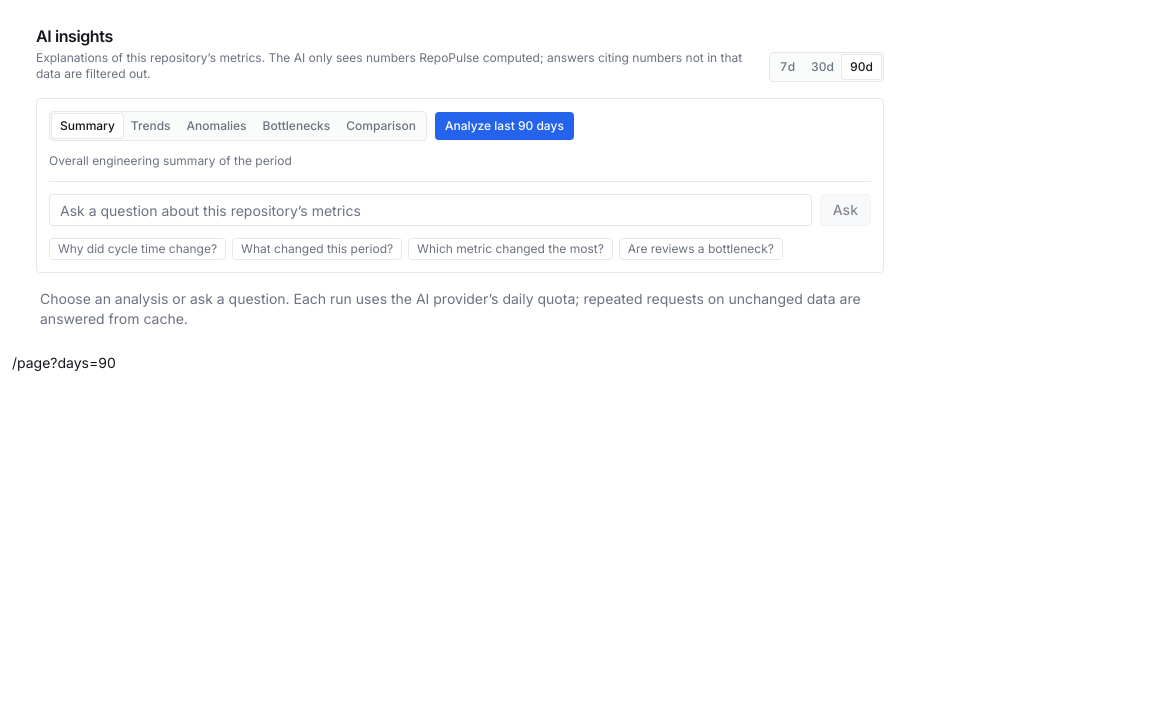
AIInsightsPage › runs the selected mode for the selected period and shows the structured answer
The width and height of the screenshot is (1164, 720).
Click the radio button labelled "Bottlenecks" at (296, 126), box [255,114,338,138]
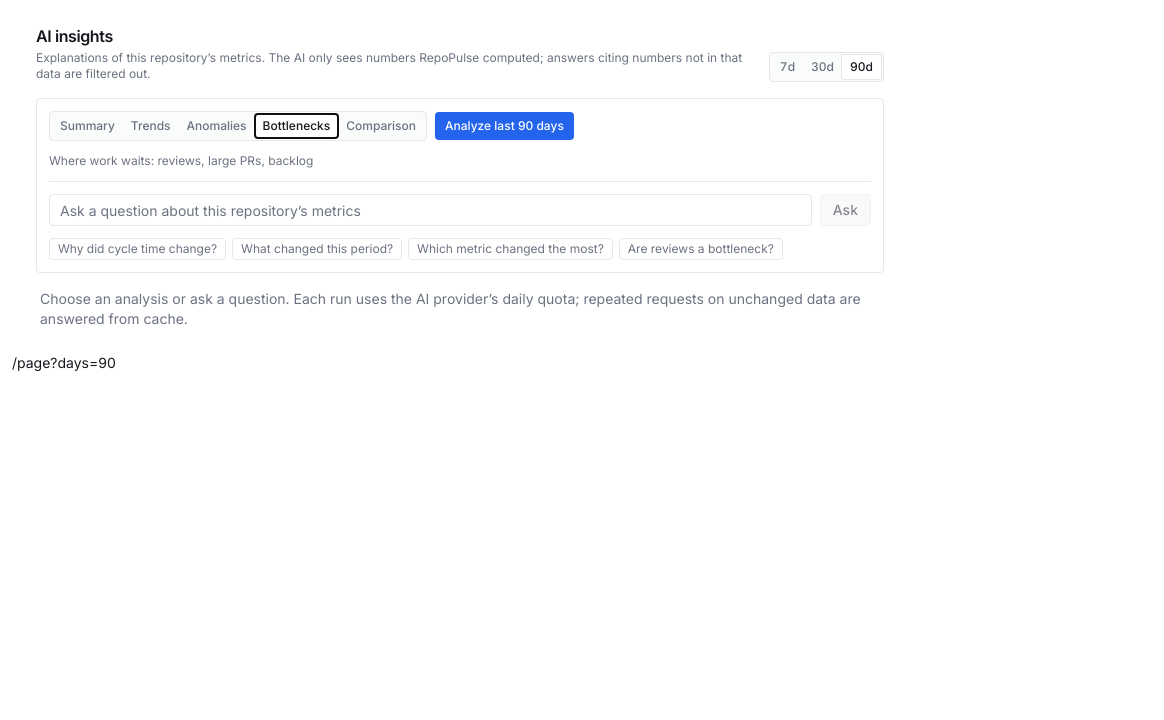
Click the button "Analyze last 90 days" at (504, 126), box [435,112,574,140]
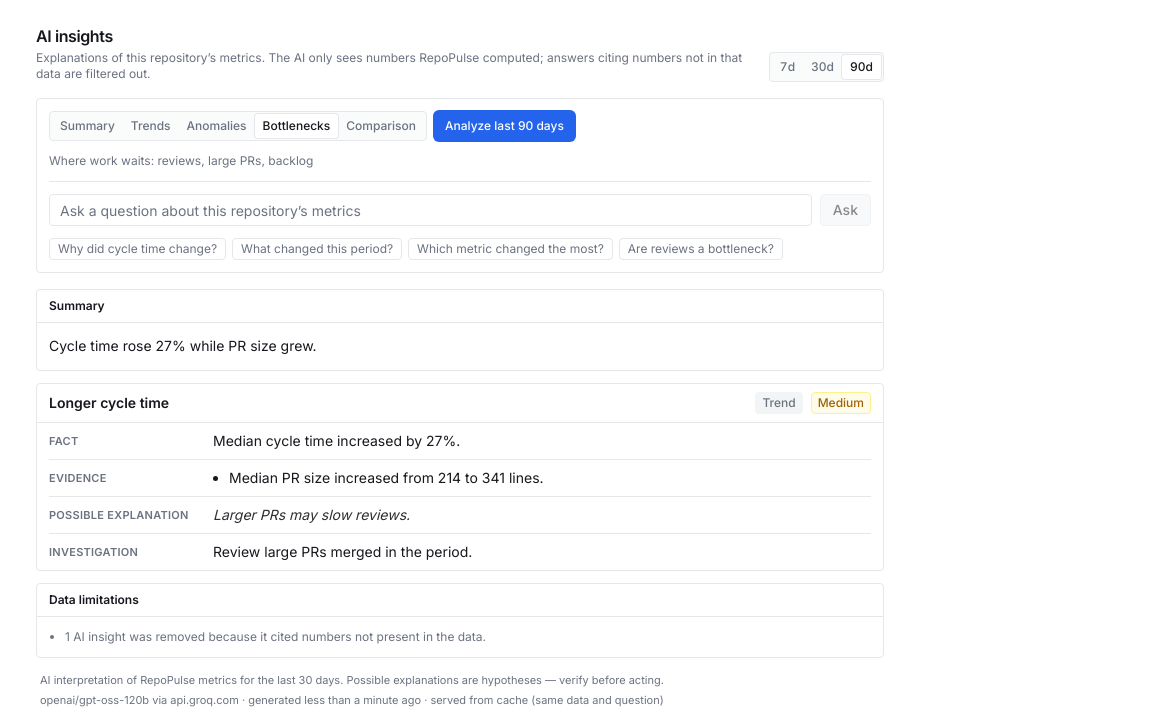
Expected: the text "Cycle time rose 27% while PR size grew." is shown, [49,337,317,354]
Expected: the heading "Longer cycle time" is shown, [49,394,169,411]
Expected: the list item "removed because it cited numbers" is shown, [65,629,486,644]
